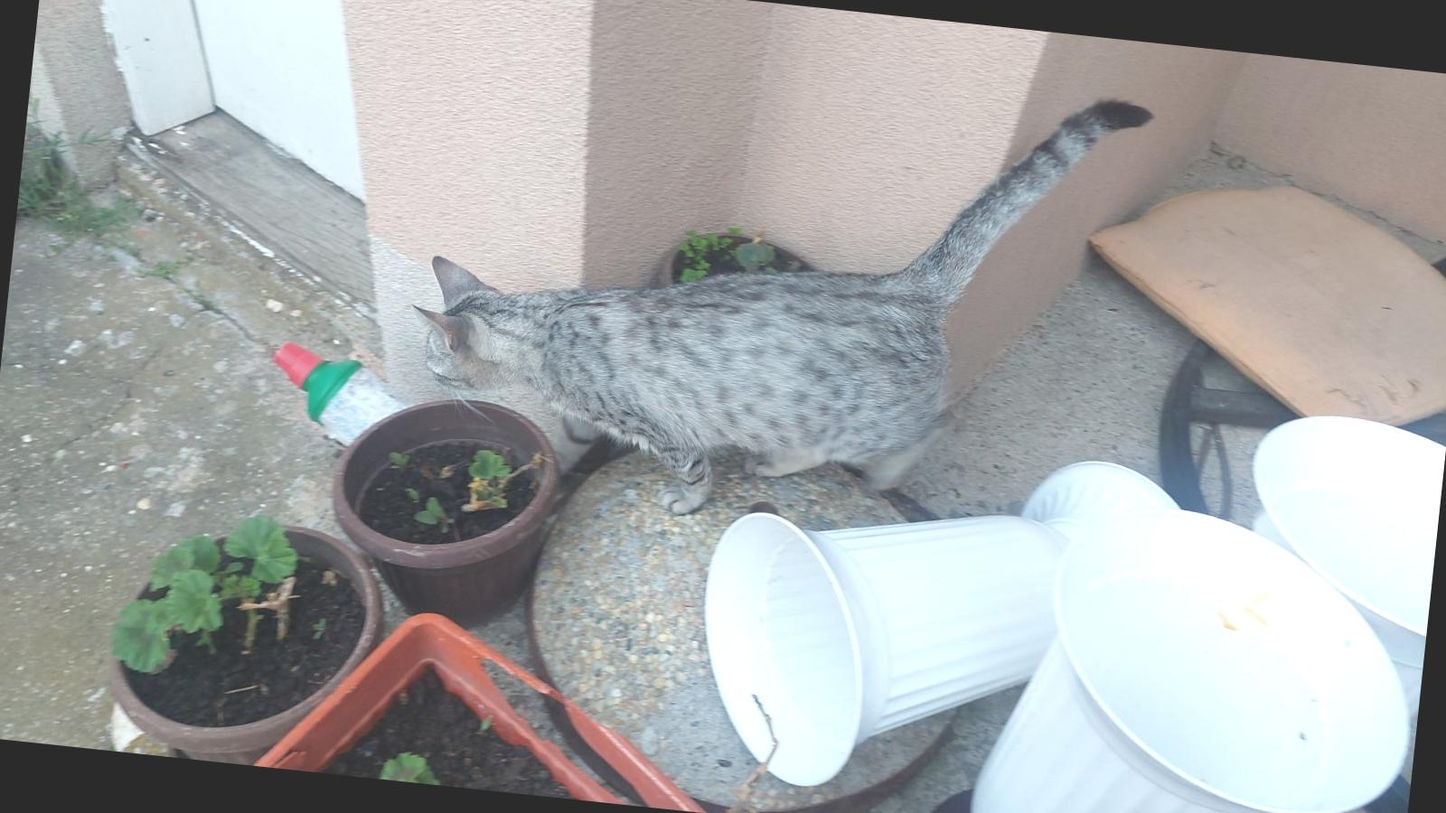macka: (391, 25, 1153, 563)
